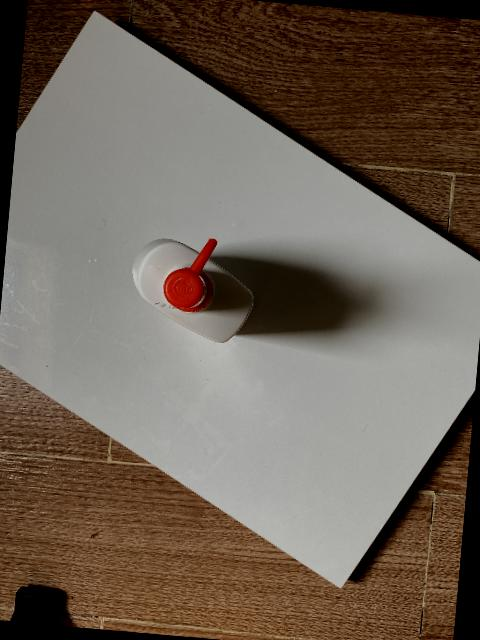life-buoy: (132, 238, 254, 343)
